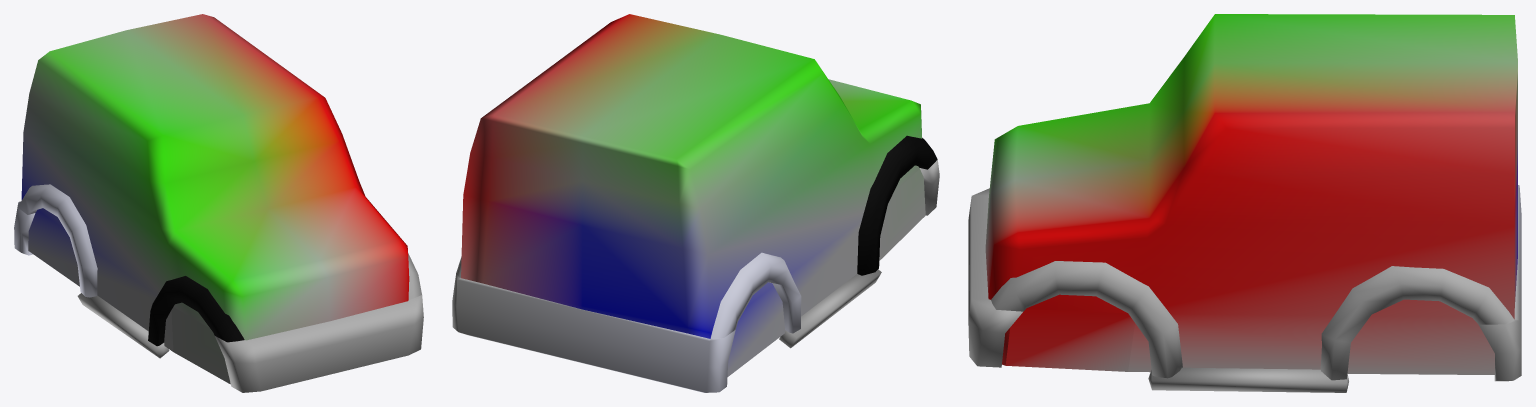
The model's file is jeep.fbx.
3 views of the same model, side by side, from view 1: azimuth 30°, elevation 25°; view 2: azimuth 150°, elevation 25°; view 3: azimuth 270°, elevation 25° (orthographic). The views are drawn at different scales.
Parts seen in each view (by area): view 1: side_object; view 2: side_object; view 3: side_object.
Part boxes in pixels (x1=…): side_object: x1=14, y1=14, x2=423, y2=392; side_object: x1=452, y1=14, x2=939, y2=392; side_object: x1=968, y1=14, x2=1521, y2=392.
Size of the model in its own units: 8.04 by 6.79 by 12.98.
